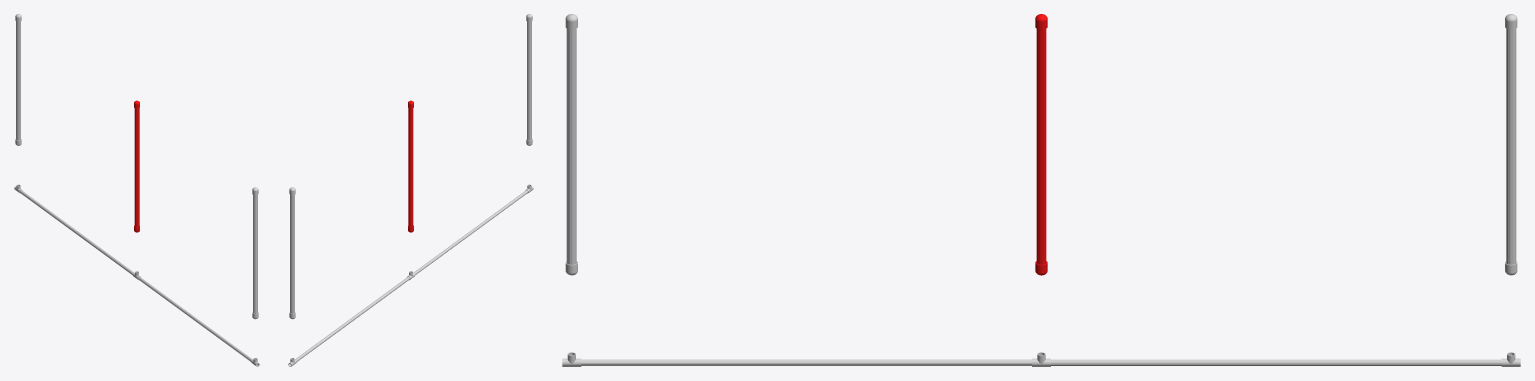
The picture shows the model from 3 angles, left to right: view 1: azimuth 30°, elevation 25°; view 2: azimuth 150°, elevation 25°; view 3: azimuth 270°, elevation 25°; orthographic projection. The views are drawn at different scales.
Parts seen in each view (by area): view 1: slalom_frame; view 2: slalom_frame; view 3: slalom_frame.
Part boxes in pixels (x1=…): slalom_frame: x1=14, y1=14, x2=259, y2=366; slalom_frame: x1=288, y1=14, x2=533, y2=366; slalom_frame: x1=562, y1=14, x2=1520, y2=366.
Bounding box in the file's own units: 0.0412 × 3.16 × 1.28.
